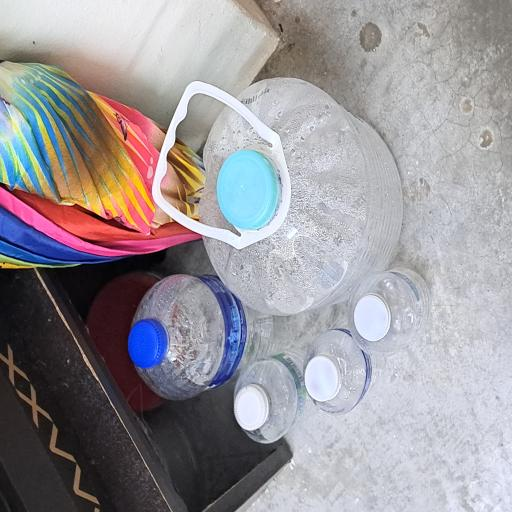plastic bottle: (146, 261, 327, 512), (80, 174, 183, 357), (49, 308, 122, 415), (68, 407, 141, 496), (118, 468, 185, 512)
plastic bottle cap: (213, 290, 274, 370), (59, 306, 99, 361), (82, 404, 118, 458), (108, 168, 143, 218), (126, 473, 163, 512)
